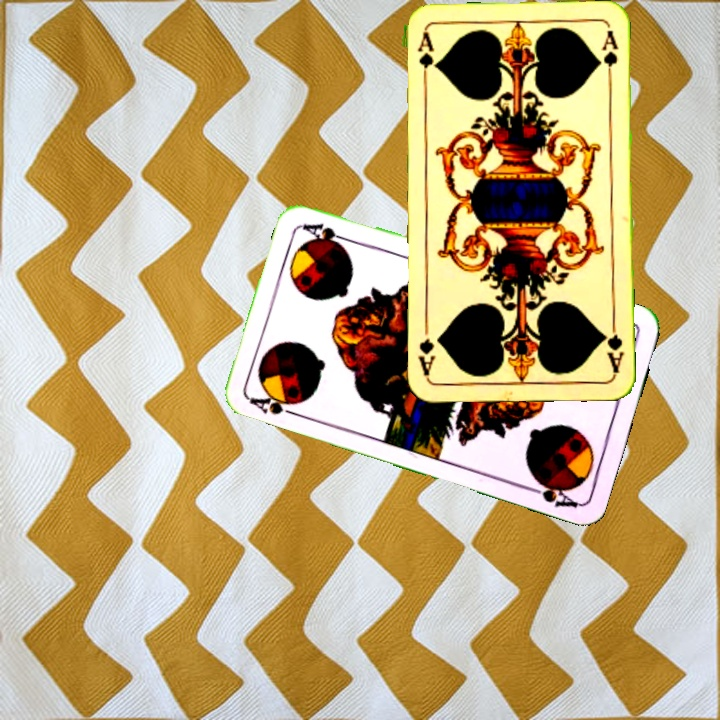GA: (599, 315, 627, 374), (413, 28, 437, 87)
SA: (246, 390, 304, 420)
